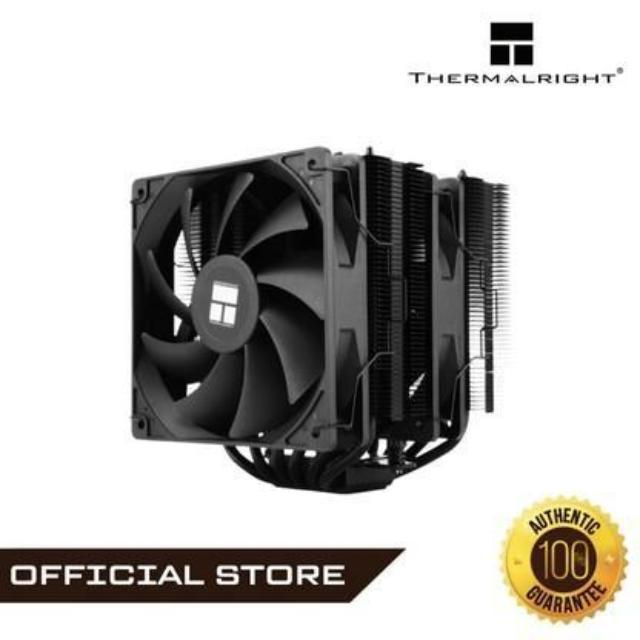CPU_Fan: (116, 142, 501, 502)
